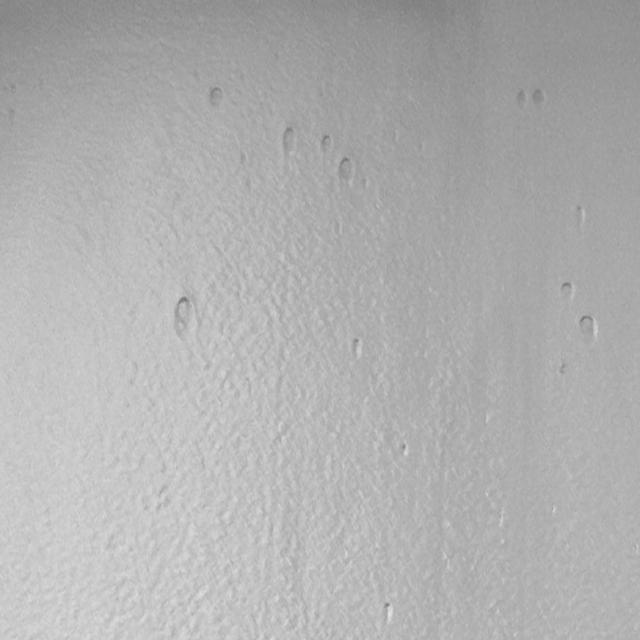pin holes: (172, 295, 202, 347), (576, 313, 601, 345), (336, 156, 357, 188), (278, 125, 298, 156), (207, 85, 230, 110), (569, 204, 589, 232), (529, 86, 550, 112), (348, 334, 367, 362), (558, 280, 579, 305), (317, 134, 335, 157), (513, 88, 531, 110), (381, 601, 396, 627), (399, 440, 413, 460), (557, 362, 569, 378)
